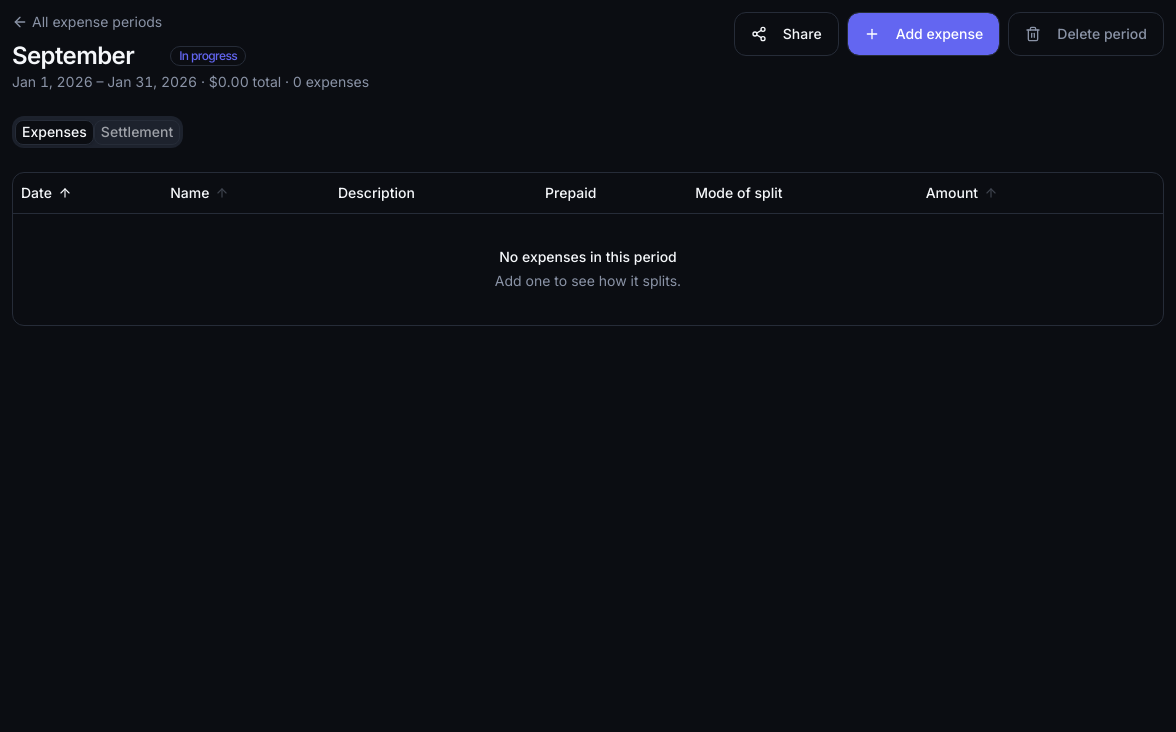
checklist: expenses › offers exactly Equal, Exact and Percentage in a dropdown — no weights mode
Click the button "Add expense": (923, 34) [847,12,1000,56]
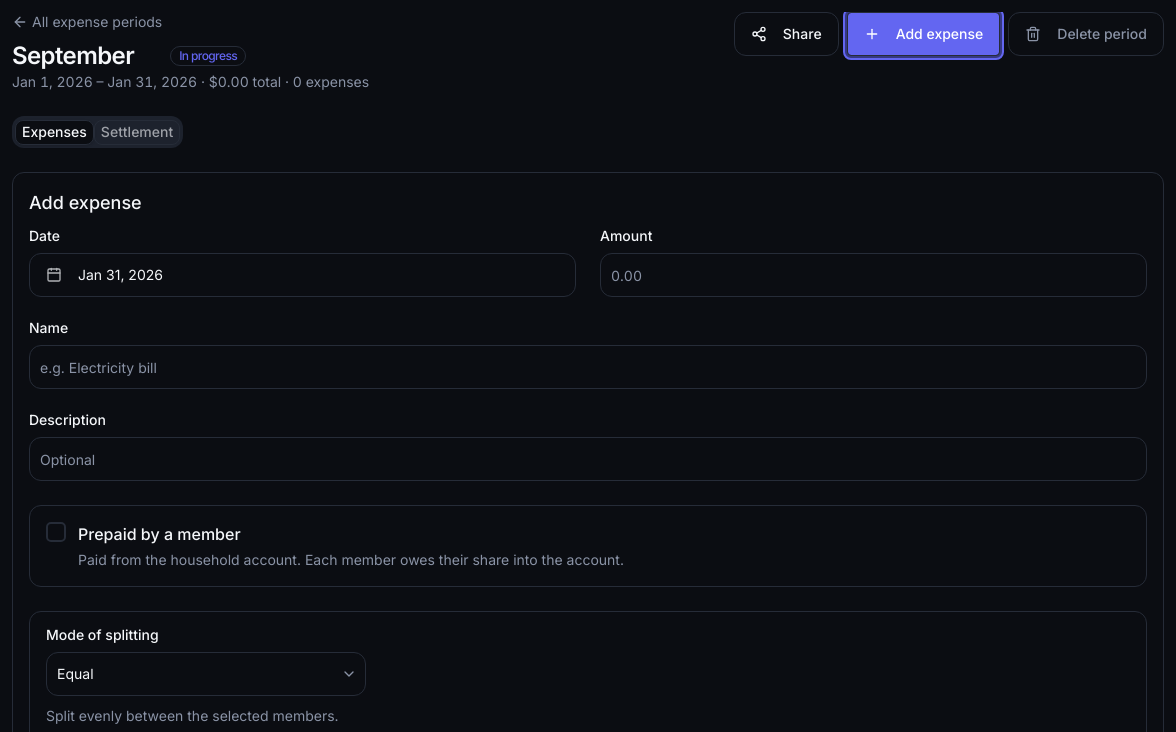
Expected: the field labelled "Name" is shown, [29,345,1147,389]
Expected: the dropdown named "mode of splitting" reads "Equal"
Click the dropdown named "mode of splitting": (75, 674) [46,652,366,696]
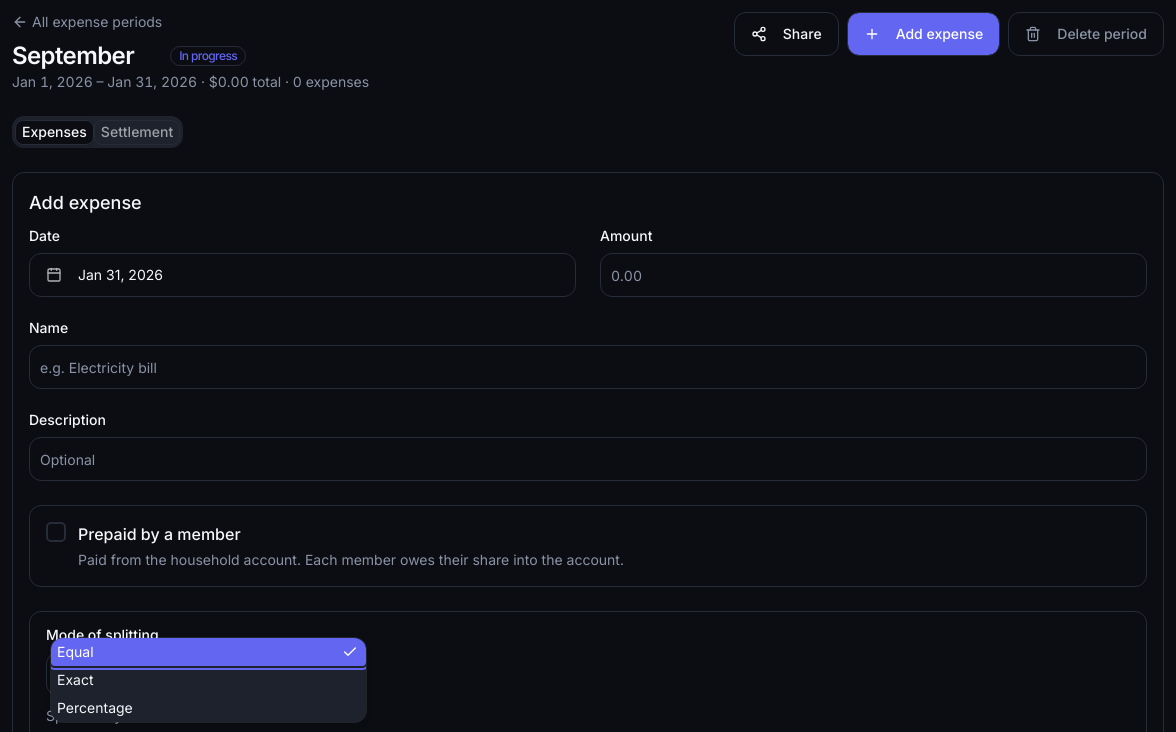
Expected: the options read "Equal", "Exact", "Percentage", in this order, [51,638,366,666]; [57,671,94,688]; [57,699,133,716]
